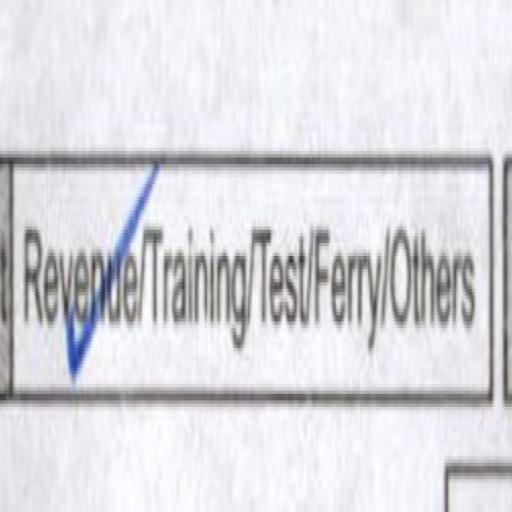check: (19, 146, 144, 423)
